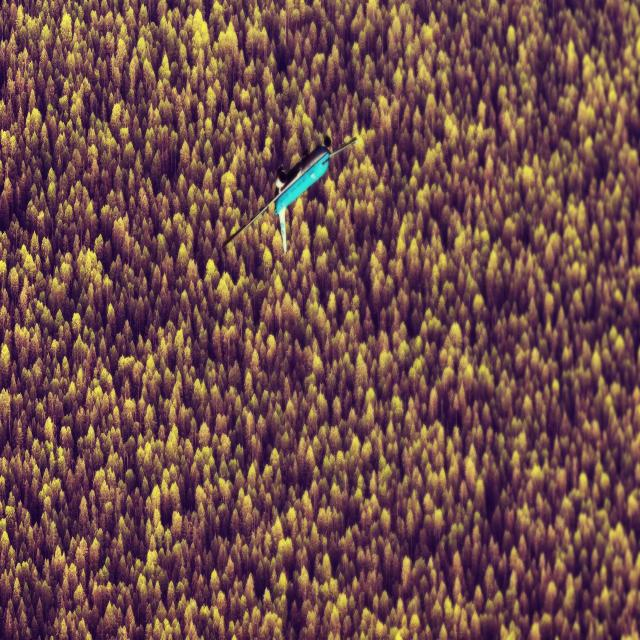airplane: (222, 134, 358, 255)
